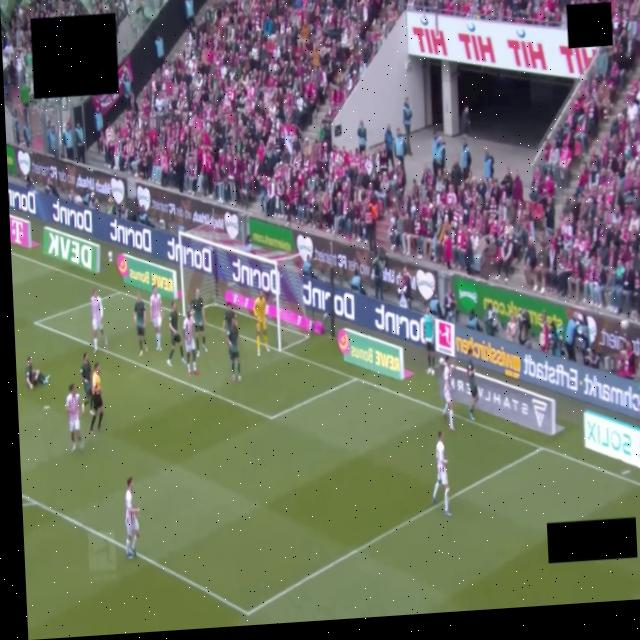player: (431, 430, 450, 515), (167, 301, 185, 366), (65, 384, 82, 452), (190, 289, 206, 355), (90, 290, 107, 352), (125, 477, 138, 558), (439, 356, 453, 431), (253, 290, 268, 356), (182, 311, 197, 376), (226, 317, 241, 381), (133, 293, 147, 356), (466, 351, 478, 420), (149, 287, 162, 350), (25, 356, 49, 390), (80, 352, 91, 413), (221, 302, 235, 345)
referee: (89, 363, 103, 434)
